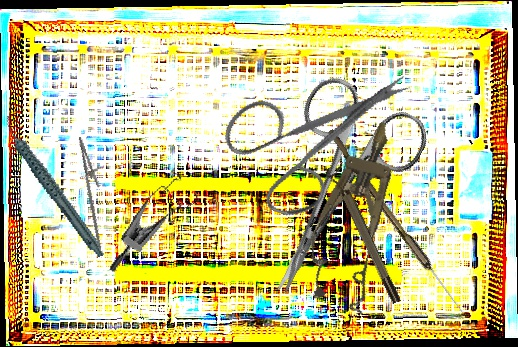Fixation Ring: (323, 162, 404, 308)
Handpiece: (2, 101, 105, 272)
Iris Scissors: (221, 68, 436, 320), (203, 21, 417, 242)
Needle Holder: (65, 134, 123, 251)
Speculum: (293, 112, 419, 315), (106, 161, 207, 293)
Surgical Spoon: (323, 128, 469, 317)
